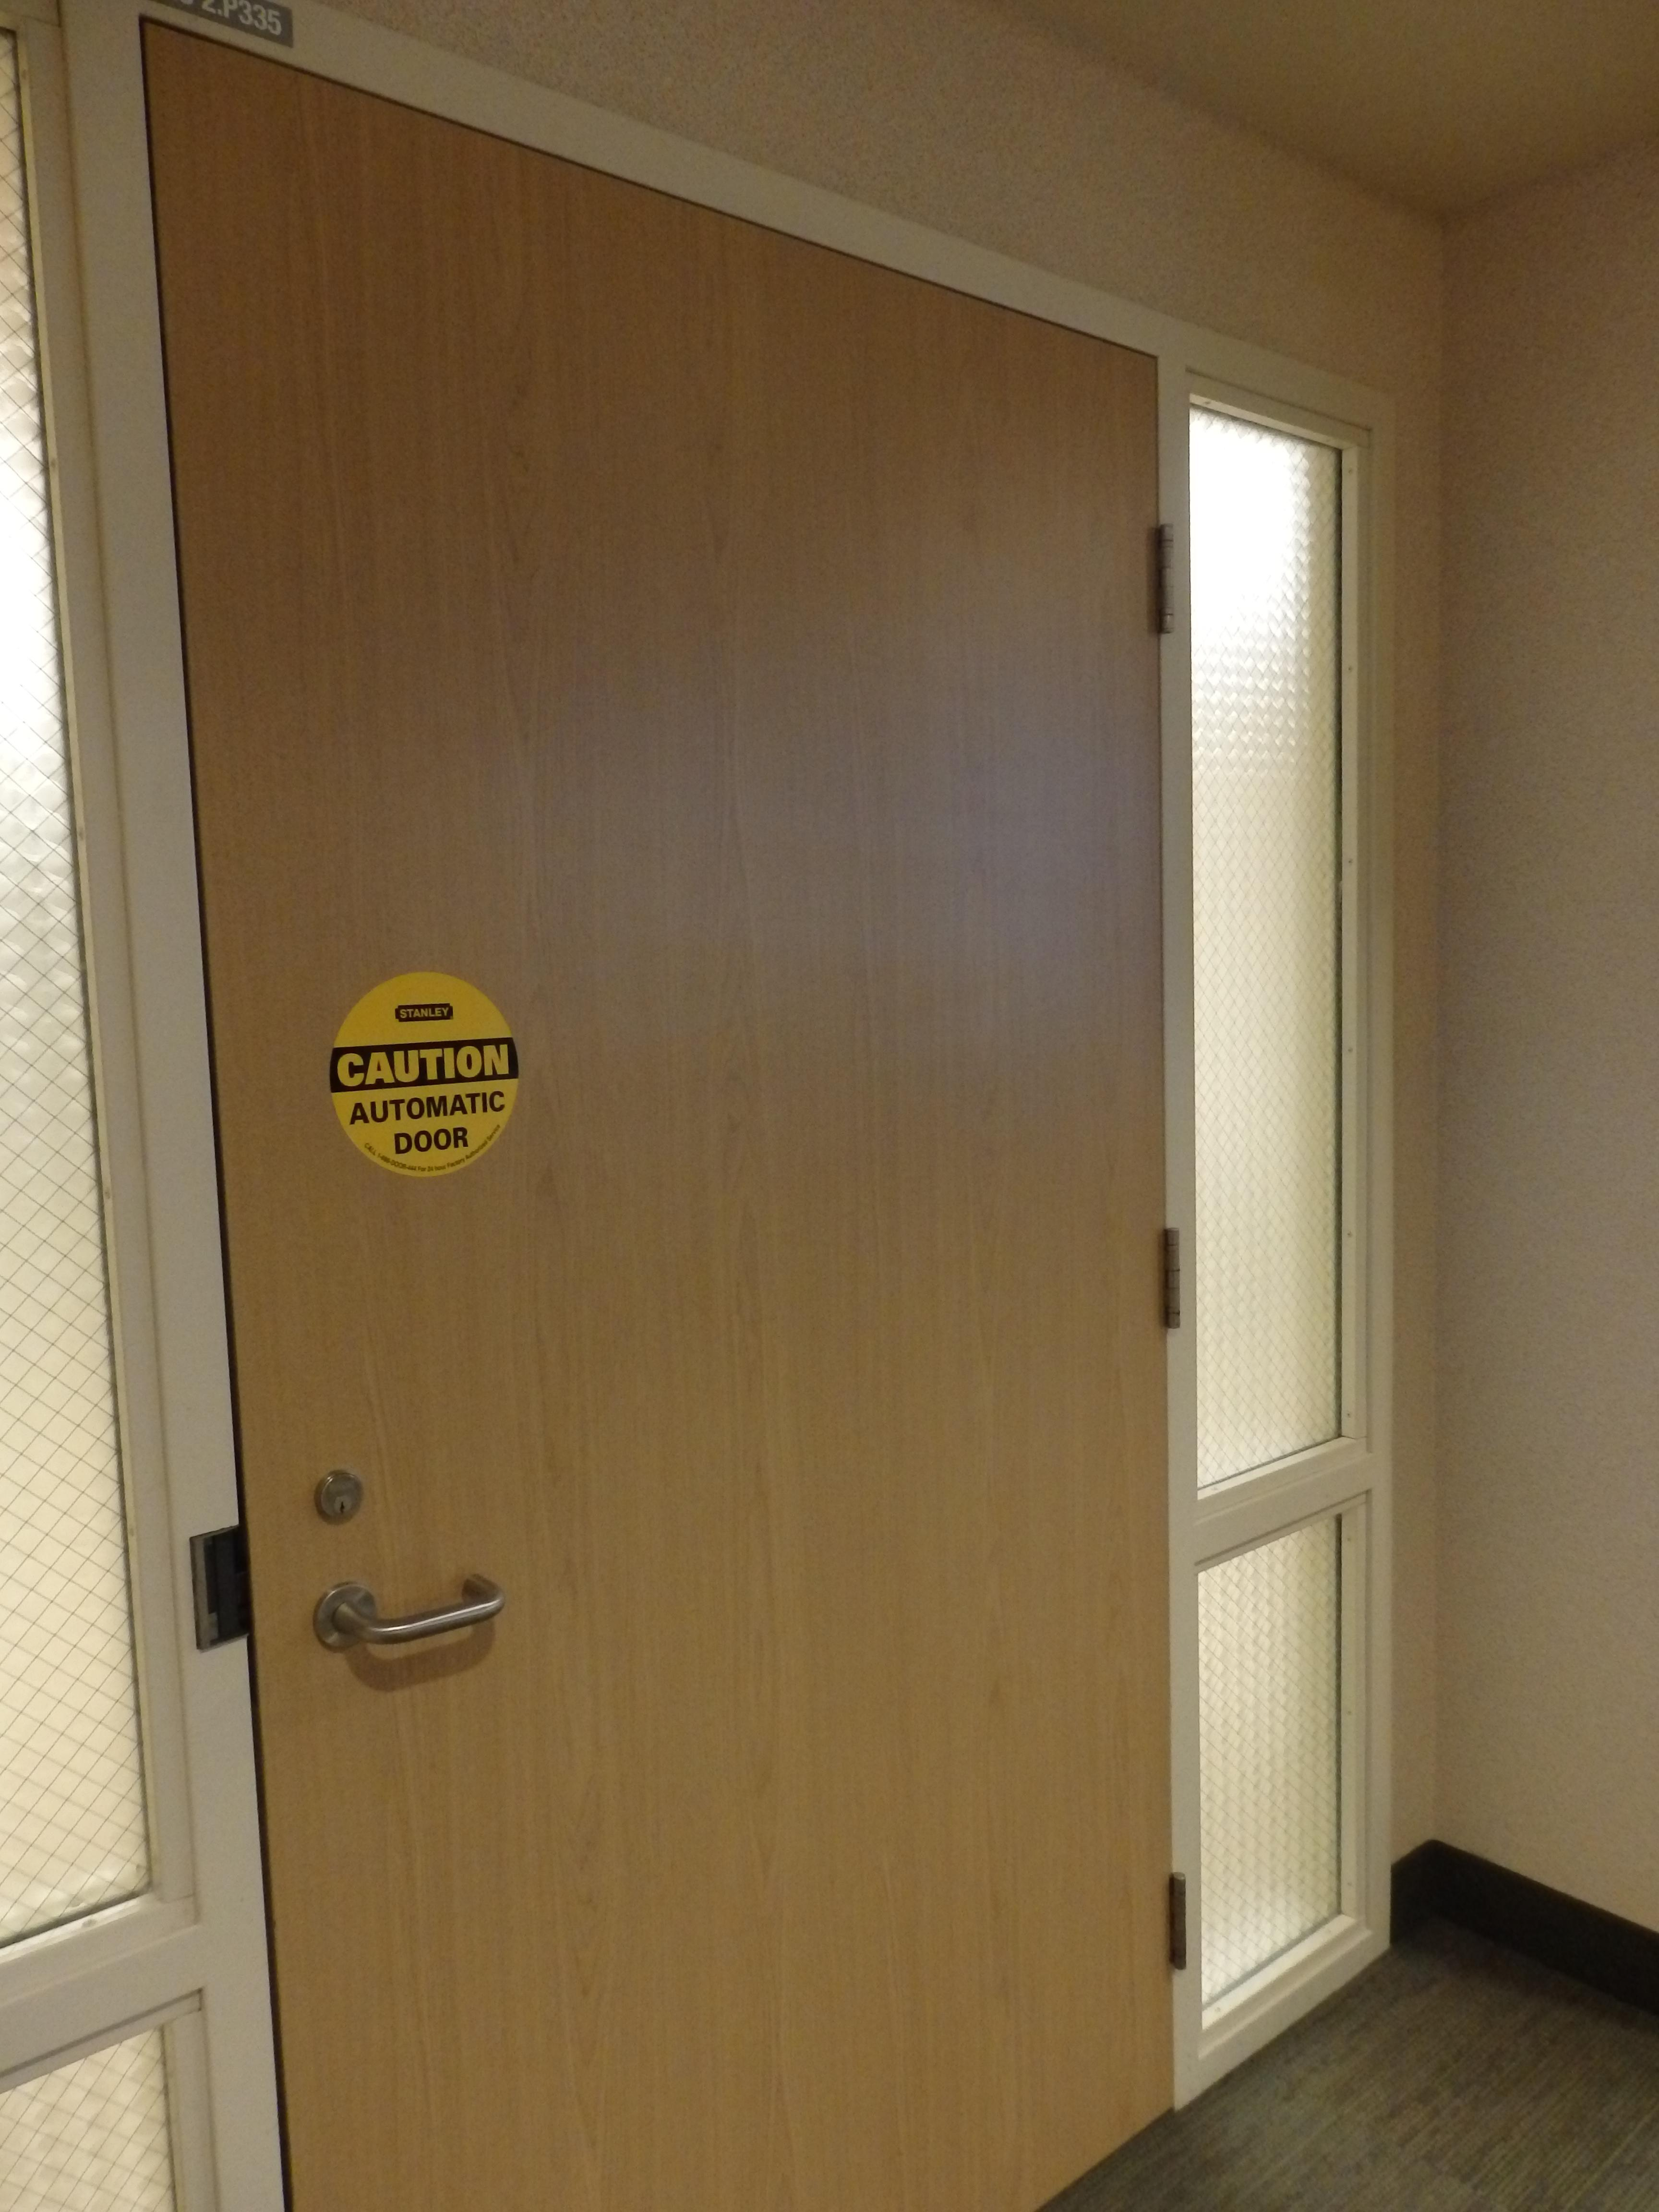door: (122, 12, 1204, 2212)
